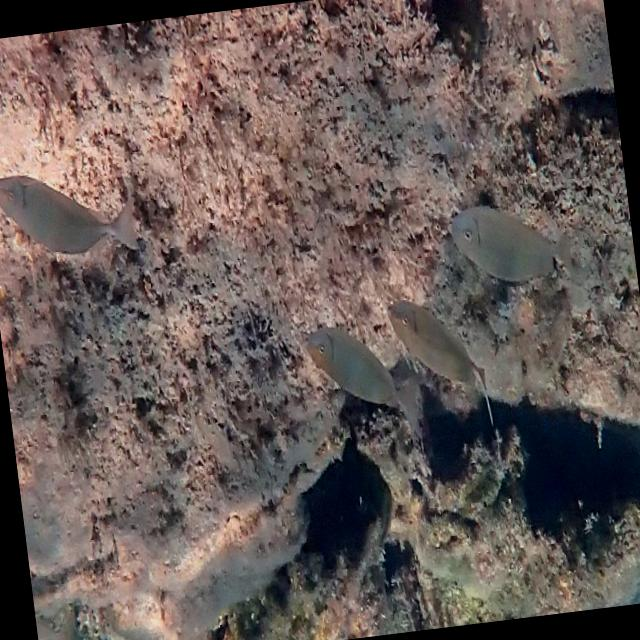Sokar Baligi: (0, 132, 158, 305), (438, 169, 594, 319)
